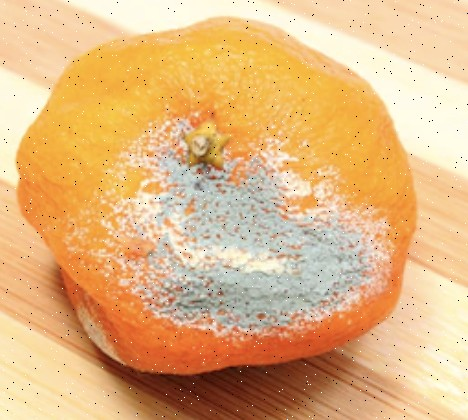rotten_orange: (16, 17, 417, 375)
